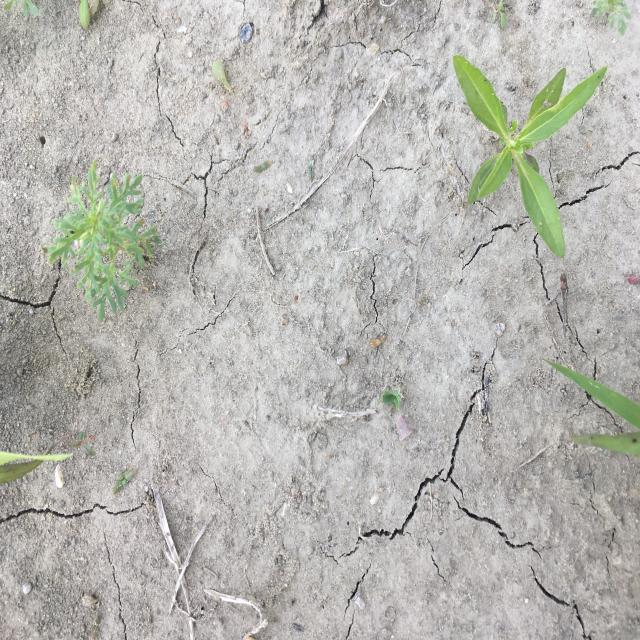Eclipta: (451, 54, 609, 259)
Ragweed: (40, 158, 164, 325)
